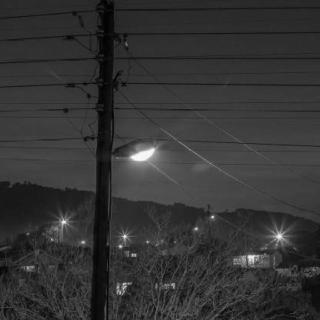other: (120, 139, 176, 165)
